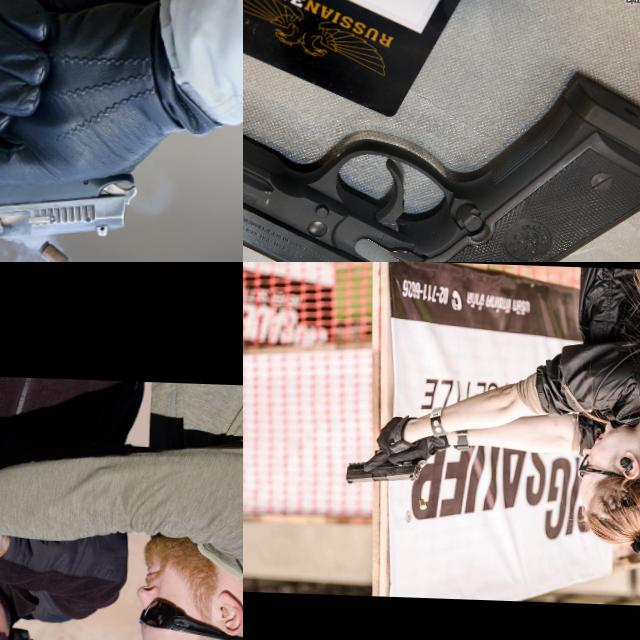handgun: (243, 45, 640, 262), (0, 122, 152, 262), (0, 535, 64, 586), (342, 451, 429, 487)
